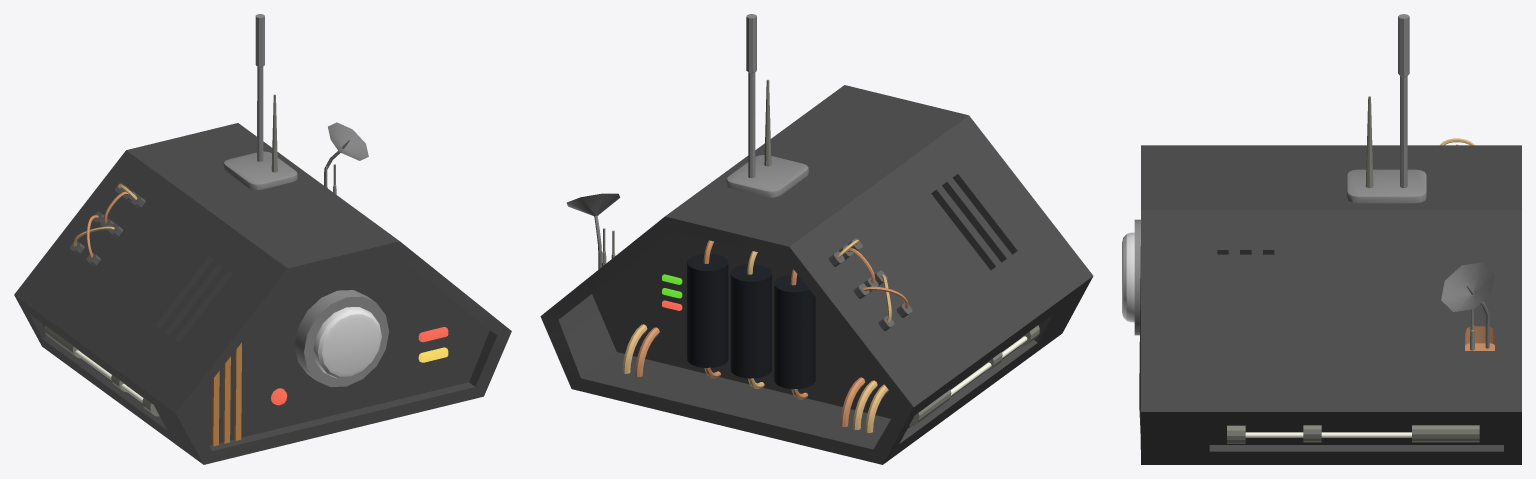
Rendered from head.glb.
3 views of the same model, side by side, from view 1: azimuth 30°, elevation 25°; view 2: azimuth 150°, elevation 25°; view 3: azimuth 270°, elevation 25° (orthographic). The views are drawn at different scales.
Parts seen in each view (by area): view 1: head1, emission1; view 2: head1; view 3: head1.
Part boxes in pixels (x1,y1,x2,y2): head1: [14, 14, 511, 464]; emission1: [271, 327, 448, 405]; head1: [540, 14, 1093, 464]; head1: [1122, 14, 1521, 464].
Size of the model in its own units: 1.2 by 1.11 by 1.05.
